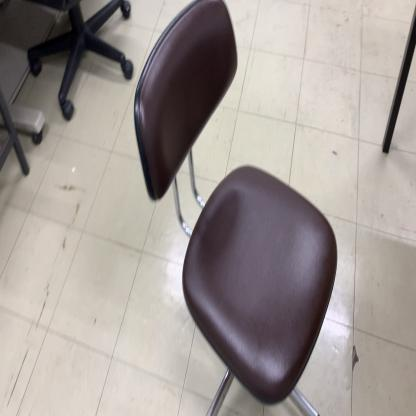chair: (133, 1, 338, 416)
